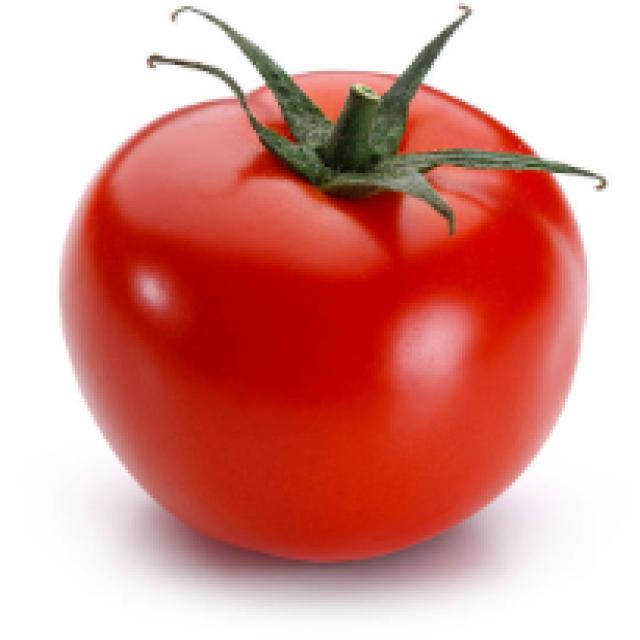Tomato: (62, 40, 594, 570)
